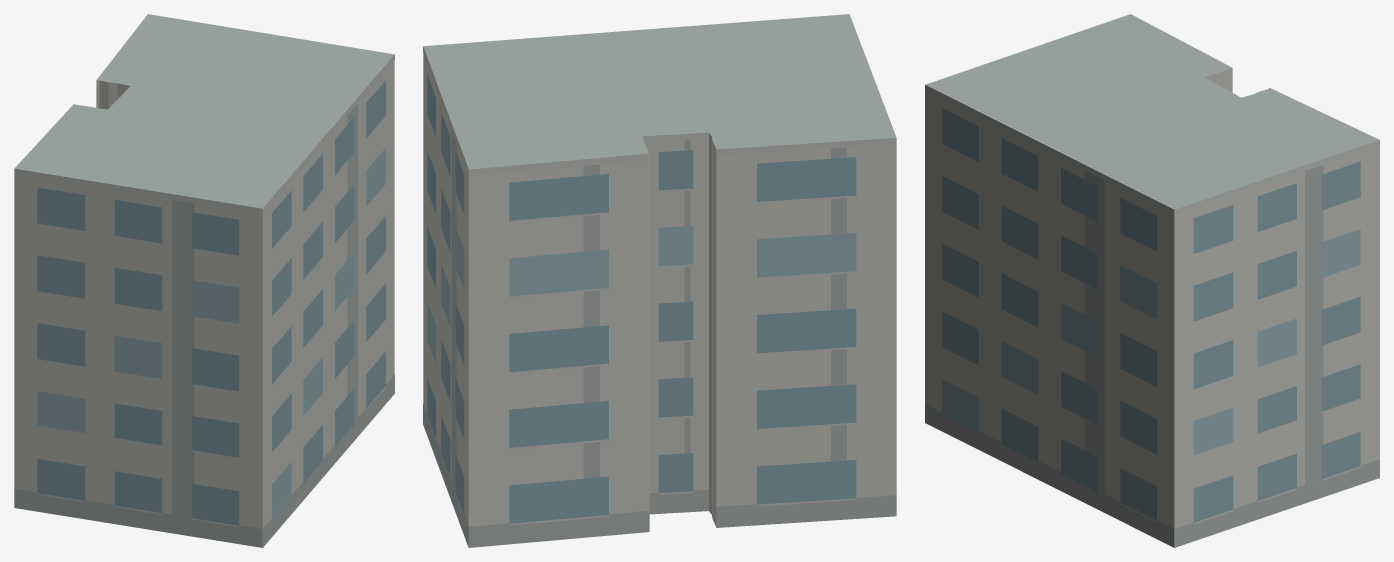
File: survey-upis-32968133.glb
3 renders of one model, left to right at view 1: azimuth 30°, elevation 25°; view 2: azimuth 150°, elevation 25°; view 3: azimuth 270°, elevation 25°, orthographic. The views are drawn at different scales.
Visible parts, largest first — view 1: survey-upis-32968133.tmp; view 2: survey-upis-32968133.tmp; view 3: survey-upis-32968133.tmp.
Boxes of the visible parts, x1,y1,x2,y2 form: survey-upis-32968133.tmp: (14, 14, 394, 547); survey-upis-32968133.tmp: (423, 14, 896, 547); survey-upis-32968133.tmp: (925, 14, 1379, 547).
Size of the model in its own units: 17.82 by 14.35 by 17.5.
